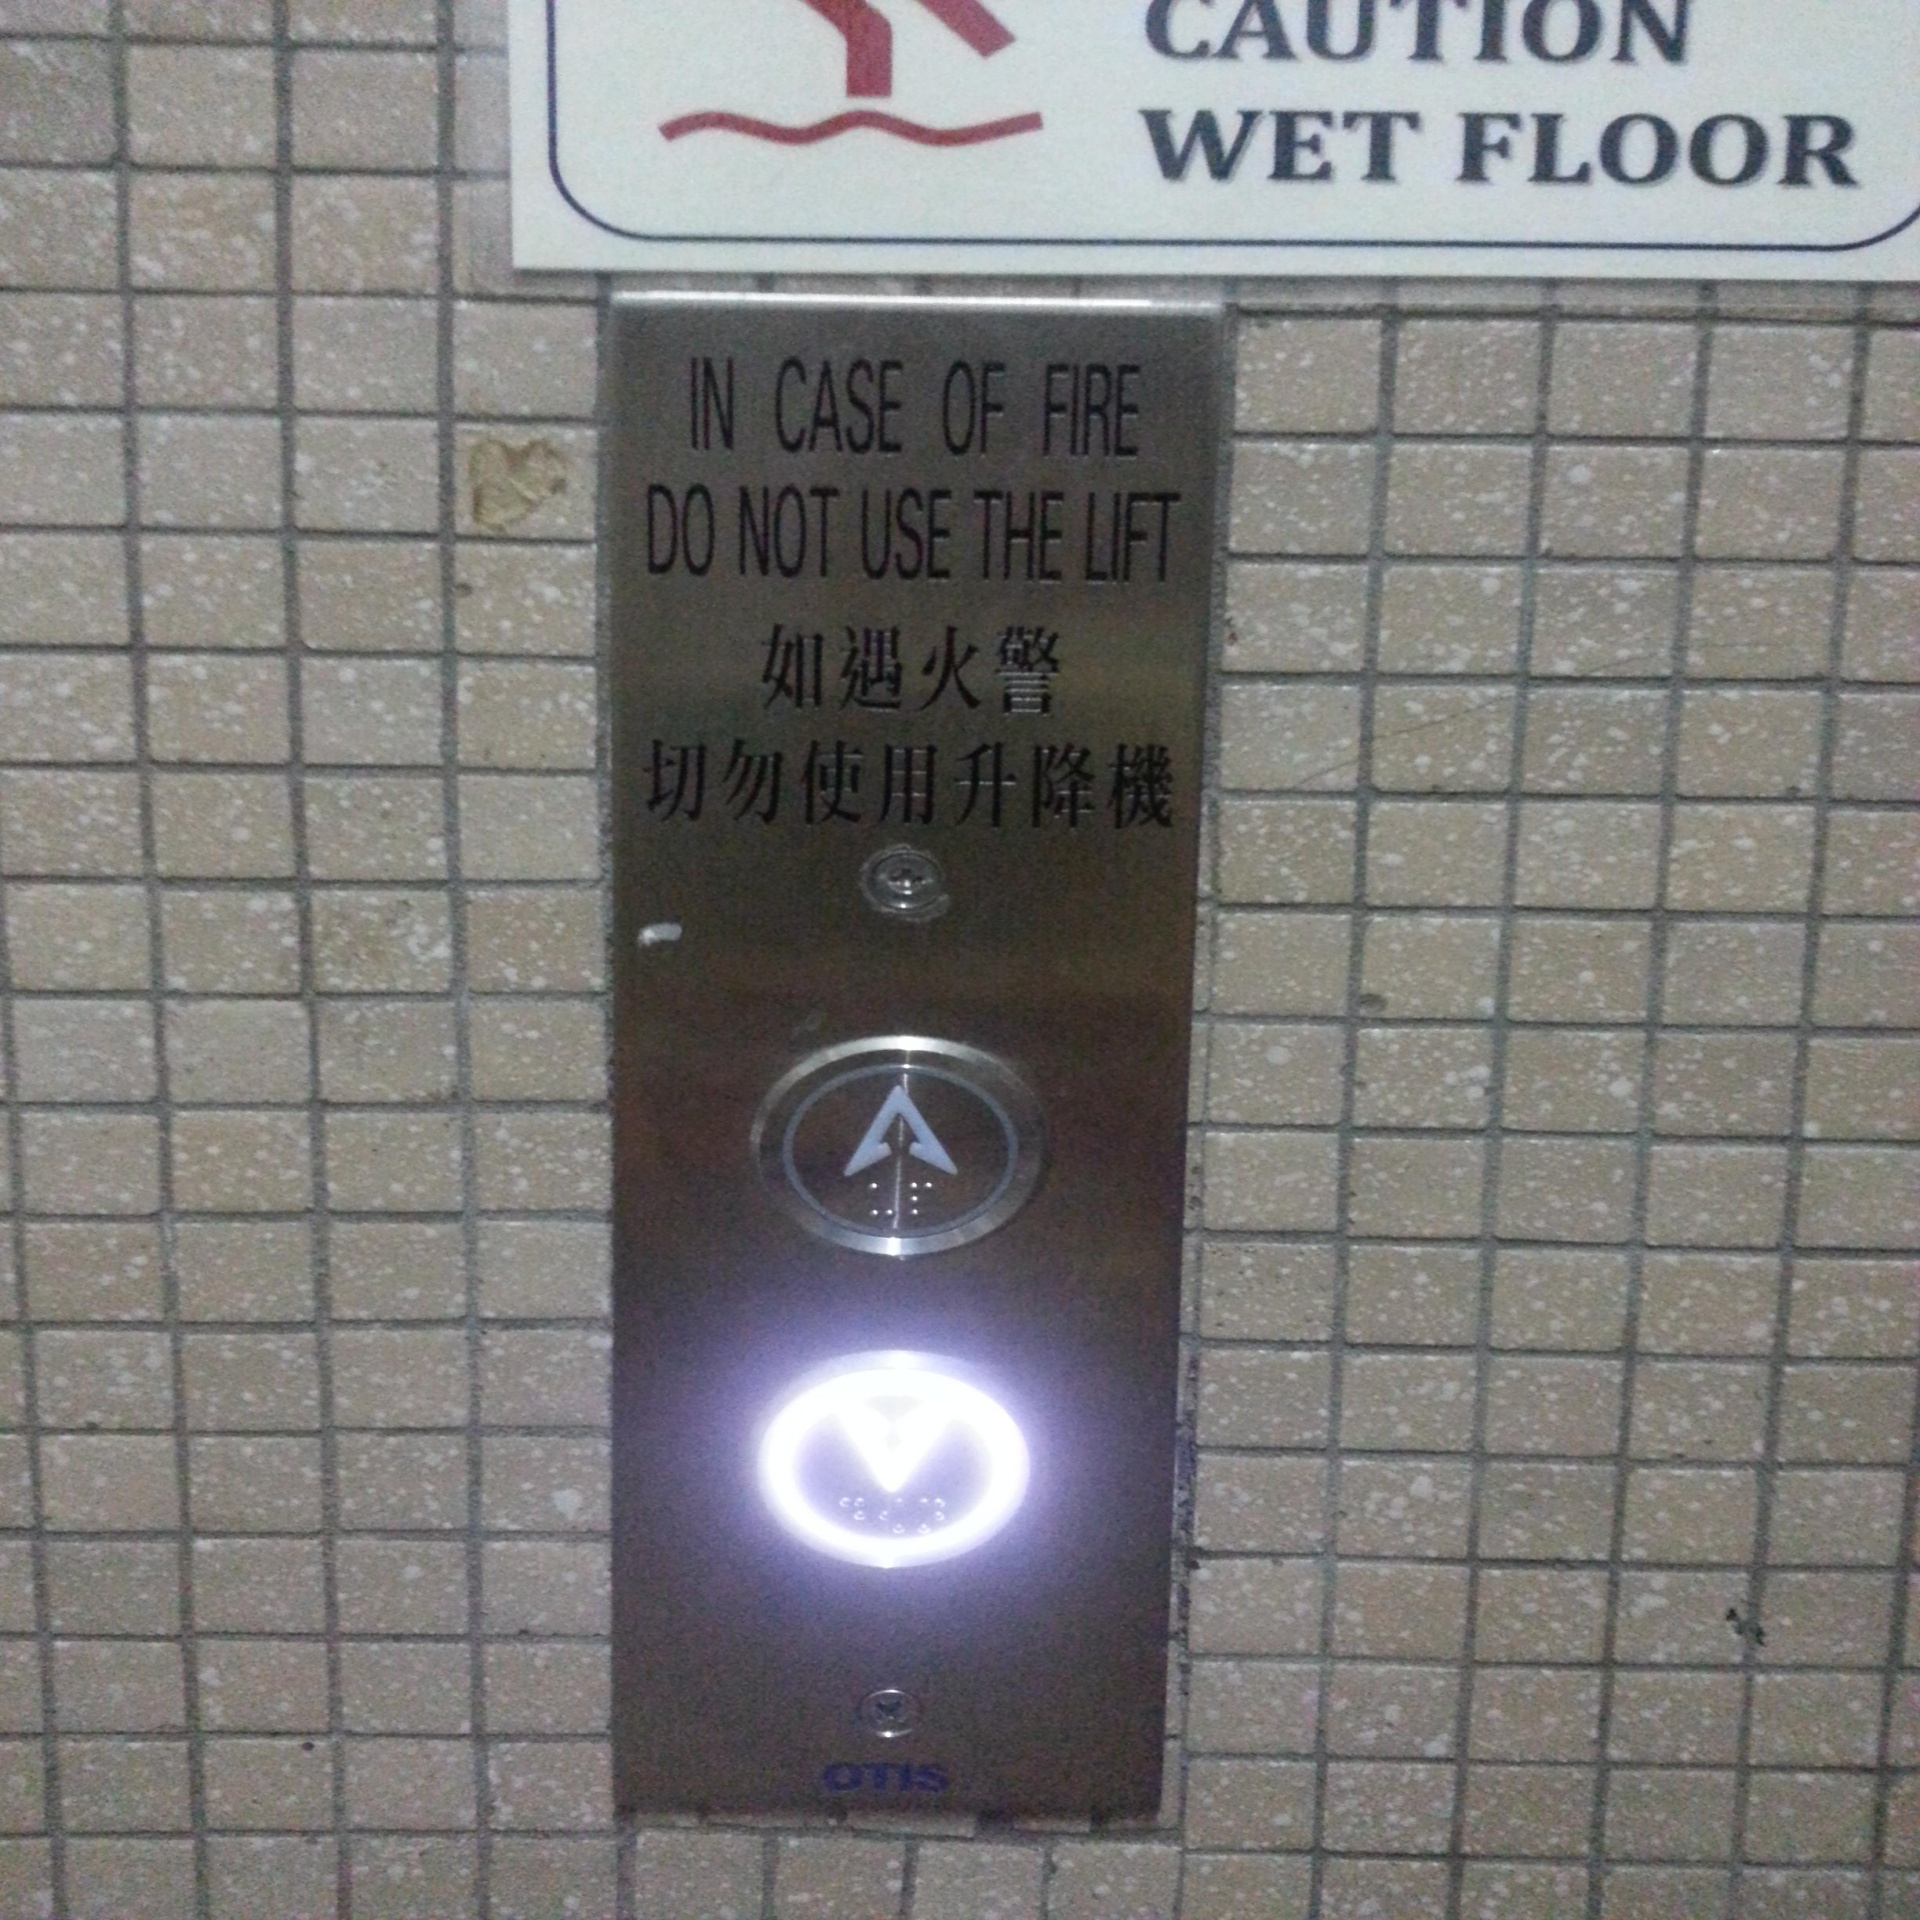down: (738, 1354, 1051, 1577)
up: (745, 1034, 1051, 1268)
